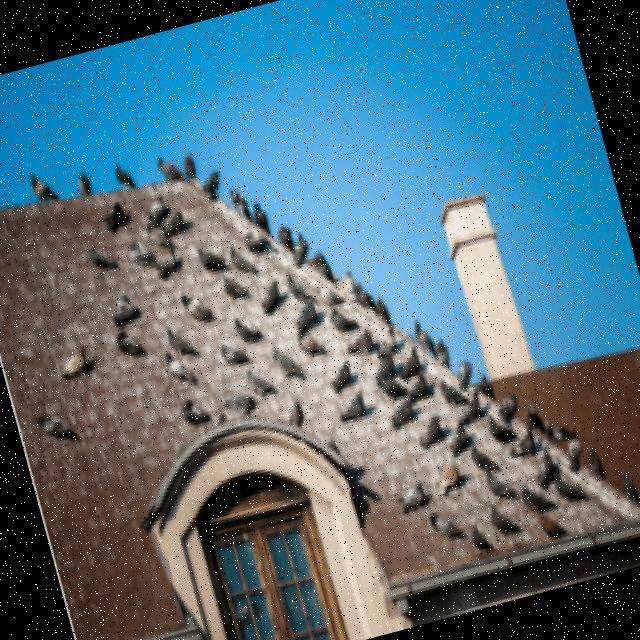bird: (138, 196, 176, 234), (100, 198, 135, 236), (27, 167, 60, 206), (154, 150, 184, 186), (199, 168, 226, 202), (112, 158, 137, 192), (178, 149, 200, 183), (74, 170, 95, 199)
